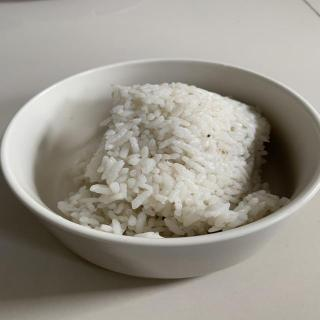Nasi: (63, 84, 287, 242)
